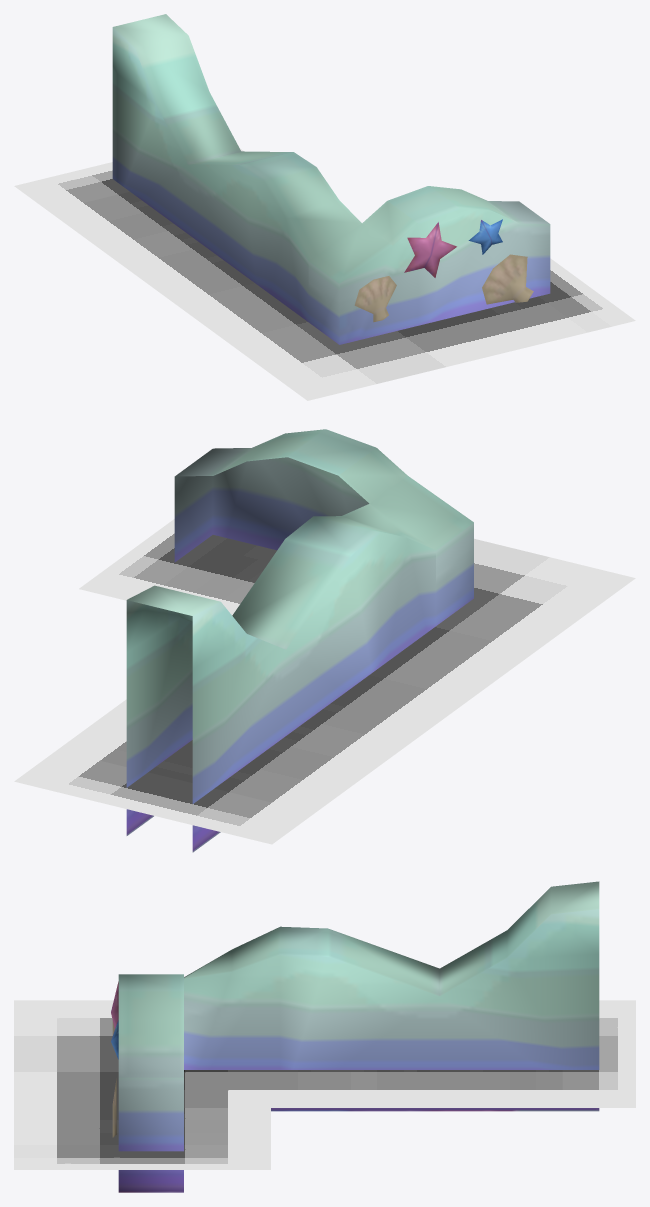
The model's file is int_fence_05.dae.
3 views of the same model, one above another, from view 1: azimuth 30°, elevation 25°; view 2: azimuth 150°, elevation 25°; view 3: azimuth 270°, elevation 25° (orthographic). The views are drawn at different scales.
Visible parts, largest first — view 1: int_fence_05; view 2: int_fence_05; view 3: int_fence_05.
Boxes of the visible parts, left/top/right/bottom form: int_fence_05: left=14, top=14, right=635, bottom=400; int_fence_05: left=14, top=429, right=635, bottom=852; int_fence_05: left=14, top=881, right=635, bottom=1192.
Size of the model in its own units: 43.91 by 24.39 by 68.
Materials: 2 (2 with a texture image).
